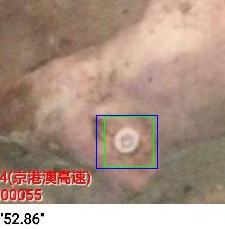text: (104, 116, 153, 166)
